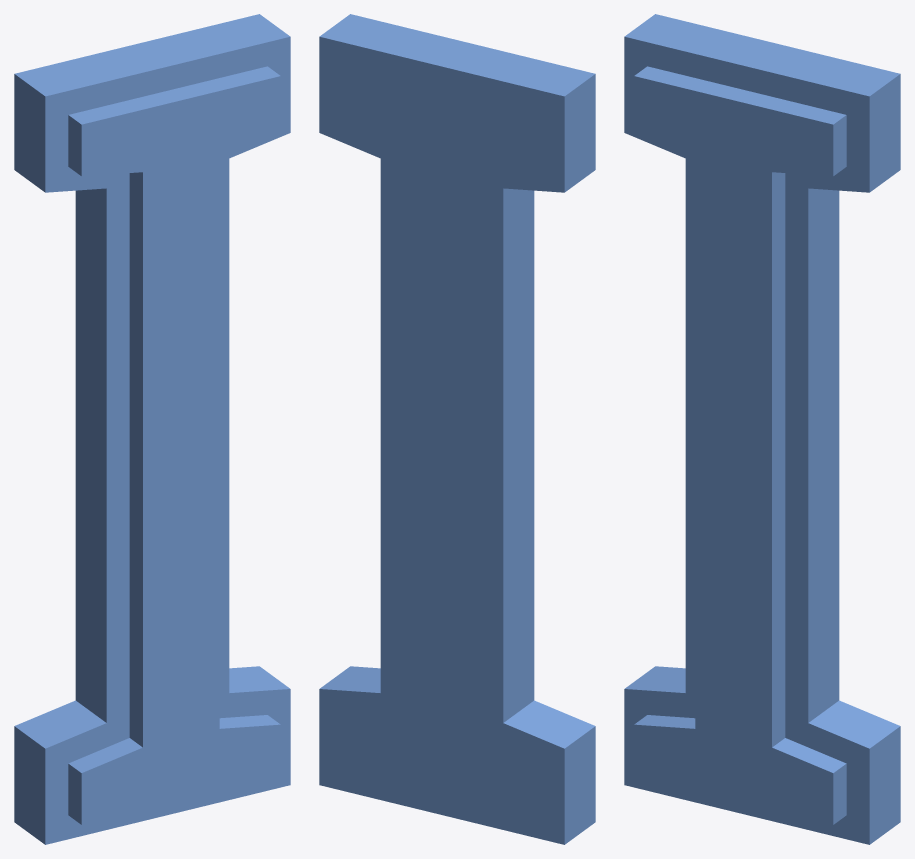
File: uploads_files_2164685_I1.FBX
3 views of the same model, side by side, from view 1: azimuth 30°, elevation 25°; view 2: azimuth 150°, elevation 25°; view 3: azimuth 330°, elevation 25° (orthographic).
Parts seen in each view (by area): view 1: I; view 2: I; view 3: I.
Part boxes in pixels (x1=…): I: x1=14, y1=14, x2=290, y2=844; I: x1=319, y1=14, x2=595, y2=844; I: x1=624, y1=14, x2=900, y2=844.
Size of the model in its own units: 1.6 by 4.67 by 0.5.
